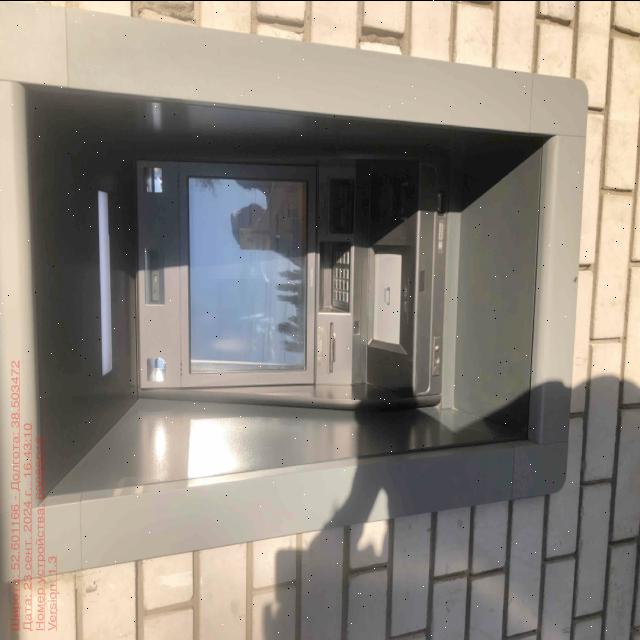bank: (96, 99, 538, 444)
